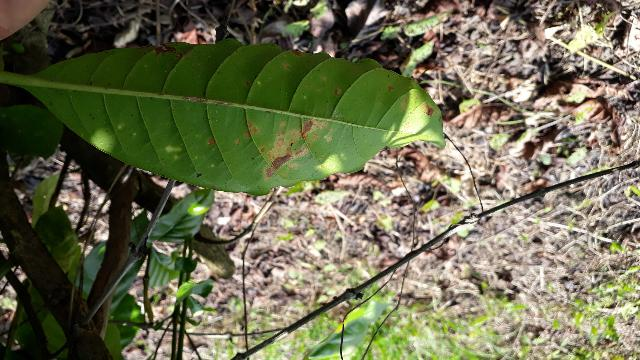red_spider_mite: (195, 162, 621, 322)
